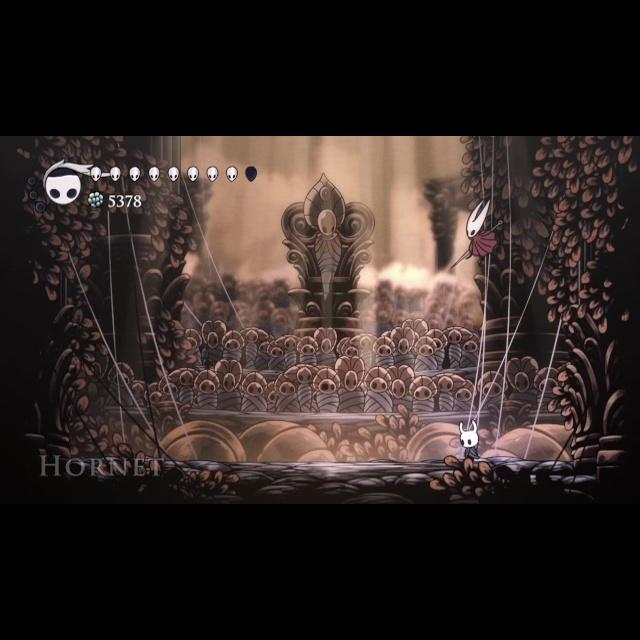Enemy: (442, 197, 514, 279)
Player: (454, 414, 484, 462)
